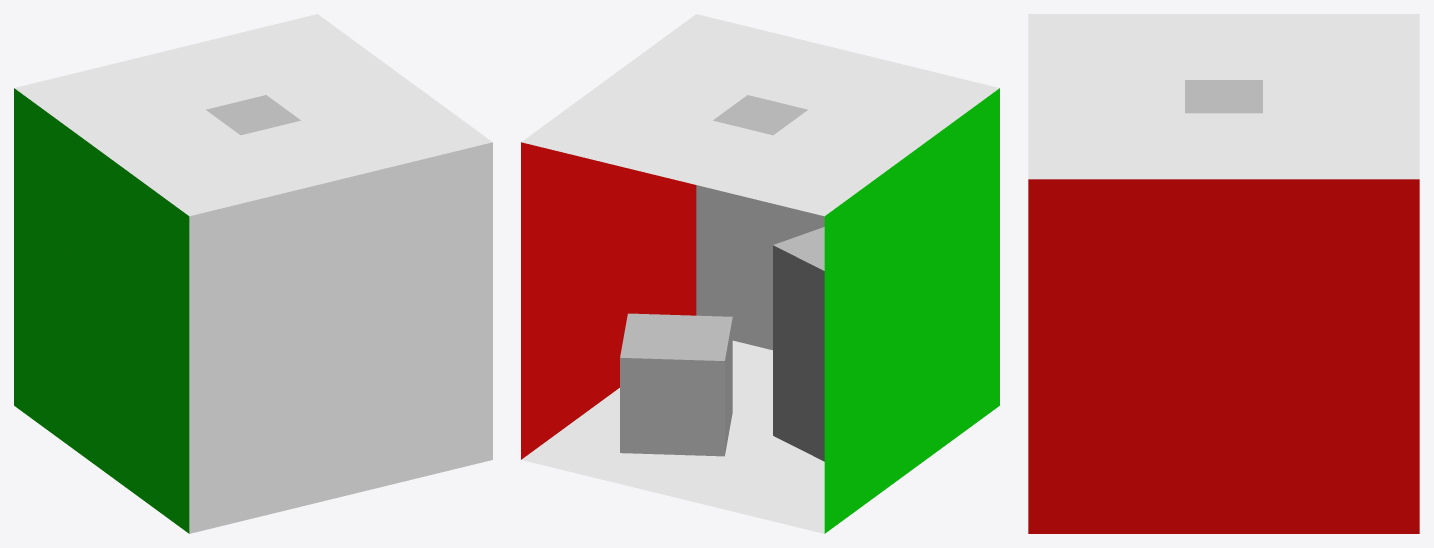
The model's file is cornell_box.obj.
3 views of the same model, side by side, from view 1: azimuth 30°, elevation 25°; view 2: azimuth 150°, elevation 25°; view 3: azimuth 270°, elevation 25° (orthographic). The views are drawn at different scales.
Visible parts, largest first — view 1: Plane.003, Plane.002, Plane.004, Plane.005; view 2: Plane.002, Plane.004, Plane.001, Plane, Cube, Plane.003, Cube.001, Plane.005; view 3: Plane.001, Plane.004, Plane.005.
Boxes of the visible parts, x1,y1,x2,y2 form: Plane.003: (189, 142, 492, 533); Plane.002: (14, 88, 189, 533); Plane.004: (14, 14, 492, 216); Plane.005: (206, 95, 300, 135); Plane.002: (824, 88, 999, 533); Plane.004: (521, 14, 999, 216); Plane.001: (521, 142, 696, 459); Plane: (521, 340, 824, 533); Cube: (620, 313, 732, 456); Plane.003: (696, 185, 824, 350); Cube.001: (773, 227, 824, 461); Plane.005: (713, 95, 807, 135); Plane.001: (1028, 179, 1419, 533); Plane.004: (1028, 14, 1419, 179); Plane.005: (1185, 80, 1262, 113).
Bounding box in the file's own units: 5 × 5 × 5.
